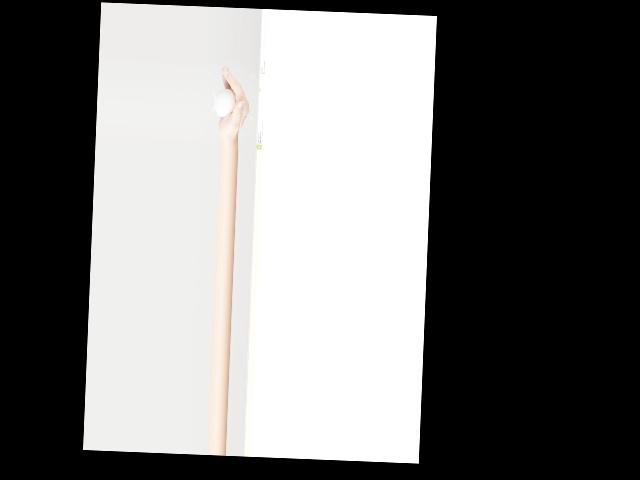egg: (215, 87, 236, 117)
